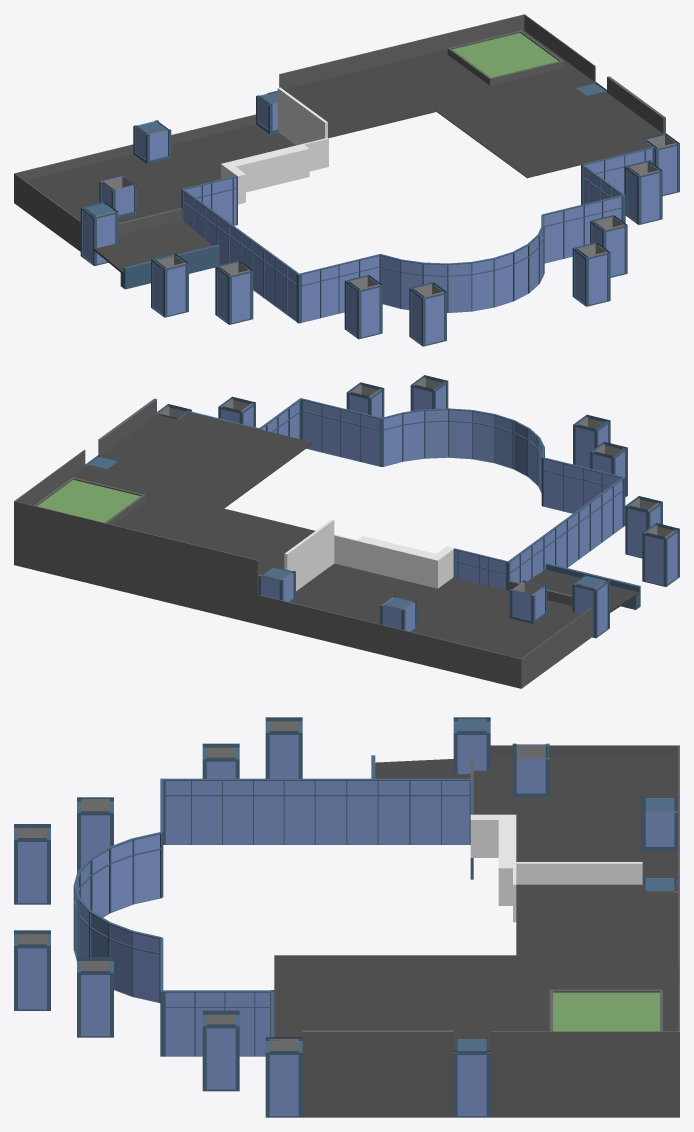
Rendered from 02. Floor plans Parking Level 2 2021.10.06.glb.
3 renders of one model, top to bottom at view 1: azimuth 30°, elevation 25°; view 2: azimuth 150°, elevation 25°; view 3: azimuth 270°, elevation 25°, orthographic. The views are drawn at different scales.
Parts seen in each view (by area): view 1: Floor plans Parking Level 2 (1), Floor plans Parking Level 2 Window Glass, Floor plans Parking Level 2 Walls, Floor plans Parking Level 2 Window Joinery; view 2: Floor plans Parking Level 2 (1), Floor plans Parking Level 2 Walls, Floor plans Parking Level 2 Window Glass, Floor plans Parking Level 2 Window Joinery; view 3: Floor plans Parking Level 2 (1), Floor plans Parking Level 2 Walls, Floor plans Parking Level 2 Window Glass, Floor plans Parking Level 2 Window Joinery.
Part boxes in pixels (x1,y1,x2,y2): Floor plans Parking Level 2 (1): (25, 30, 679, 346); Floor plans Parking Level 2 Window Glass: (183, 147, 654, 322); Floor plans Parking Level 2 Walls: (14, 14, 665, 251); Floor plans Parking Level 2 Window Joinery: (181, 147, 653, 323); Floor plans Parking Level 2 (1): (32, 375, 679, 658); Floor plans Parking Level 2 Walls: (14, 398, 591, 688); Floor plans Parking Level 2 Window Glass: (188, 400, 622, 589); Floor plans Parking Level 2 Window Joinery: (189, 398, 625, 590); Floor plans Parking Level 2 (1): (14, 717, 678, 1117); Floor plans Parking Level 2 Walls: (302, 745, 679, 1117); Floor plans Parking Level 2 Window Glass: (75, 781, 469, 1055); Floor plans Parking Level 2 Window Joinery: (73, 778, 473, 1056).
Size of the model in its own units: 38.44 by 4.63 by 32.24.
